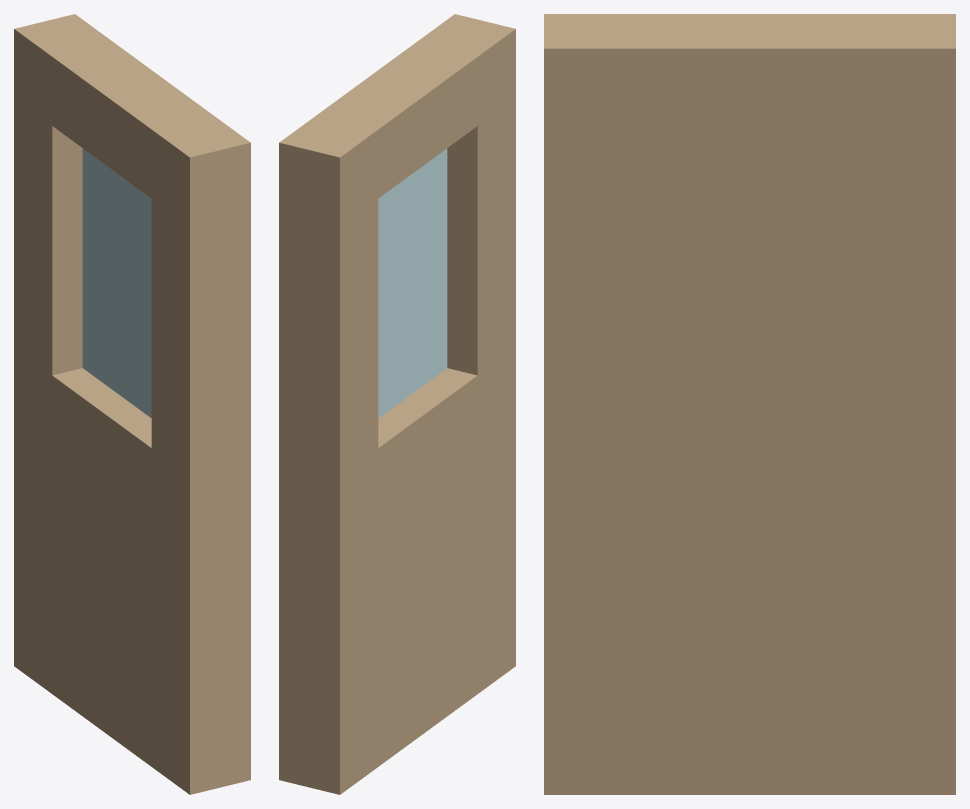
Rendered from detail_004.glb.
The picture shows the model from 3 angles, left to right: view 1: azimuth 30°, elevation 25°; view 2: azimuth 150°, elevation 25°; view 3: azimuth 270°, elevation 25°; orthographic projection. The views are drawn at different scales.
Parts seen in each view (by area): view 1: detail_004; view 2: detail_004; view 3: detail_004.
Boxes of the visible parts, <box> form: detail_004: <box>14,14,250,794</box>; detail_004: <box>279,14,515,794</box>; detail_004: <box>544,14,955,794</box>.
Size of the model in its own units: 0.05 by 0.5 by 0.25.
